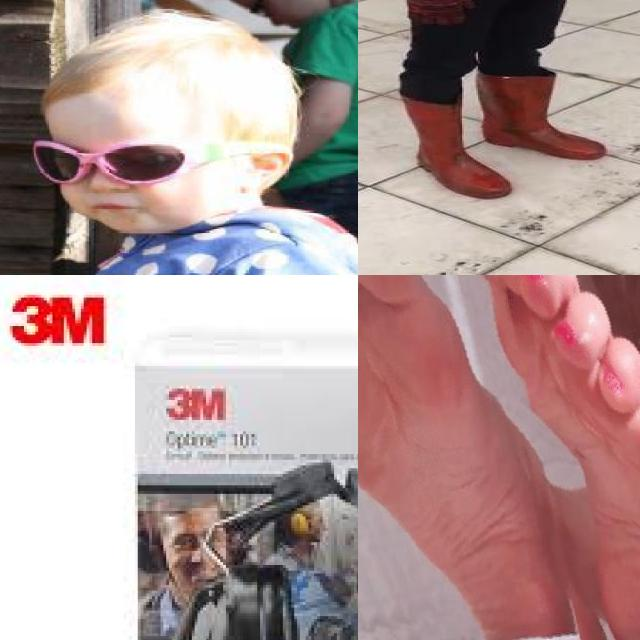Barefoots: (358, 275, 580, 640), (459, 275, 640, 640)
Ear-protection: (154, 556, 308, 640)
boots: (476, 69, 606, 160), (407, 95, 512, 199)
face_nomask: (237, 0, 311, 34)
glasses: (45, 103, 277, 179)
hand_glove: (401, 0, 479, 25)
head_nohelmet: (44, 11, 269, 90)
person: (19, 32, 358, 275), (358, 0, 640, 201), (210, 0, 358, 253)
